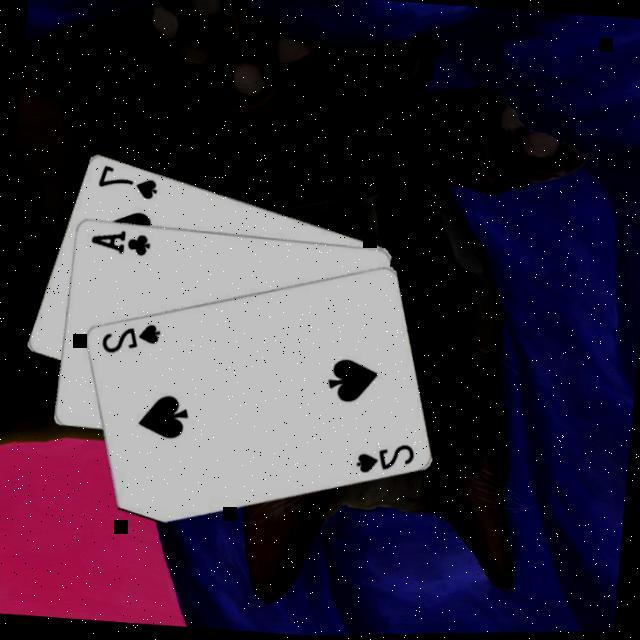2S: (95, 317, 162, 361), (348, 438, 415, 481)
7S: (91, 160, 159, 204)
AC: (84, 224, 150, 260)
